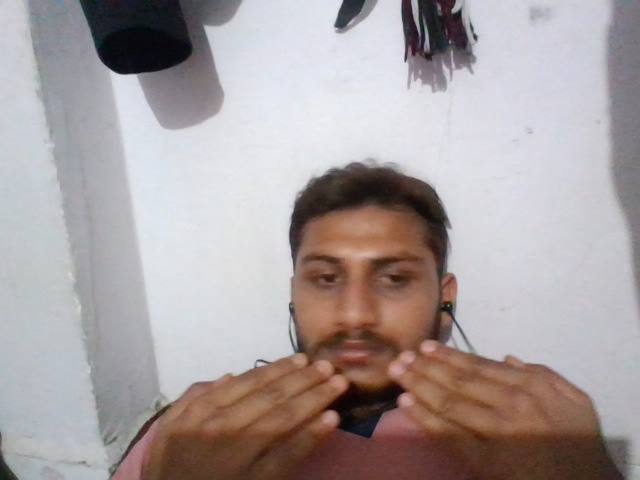Thanks: (135, 318, 640, 480)
